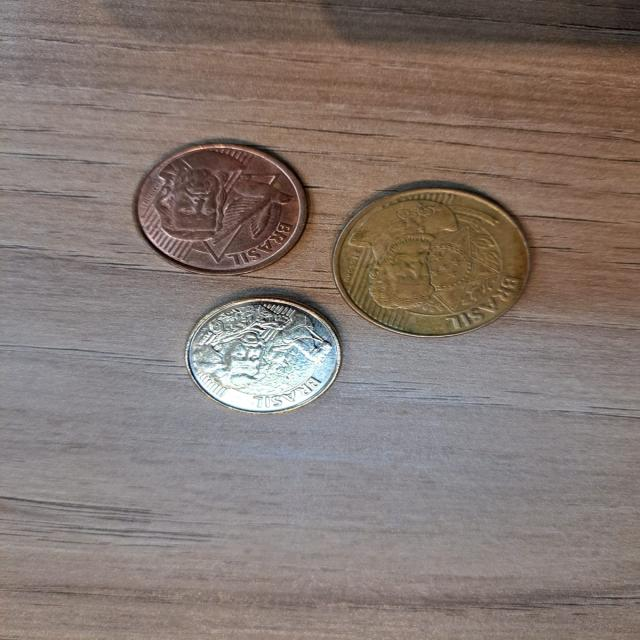25 cents: (328, 182, 541, 338)
